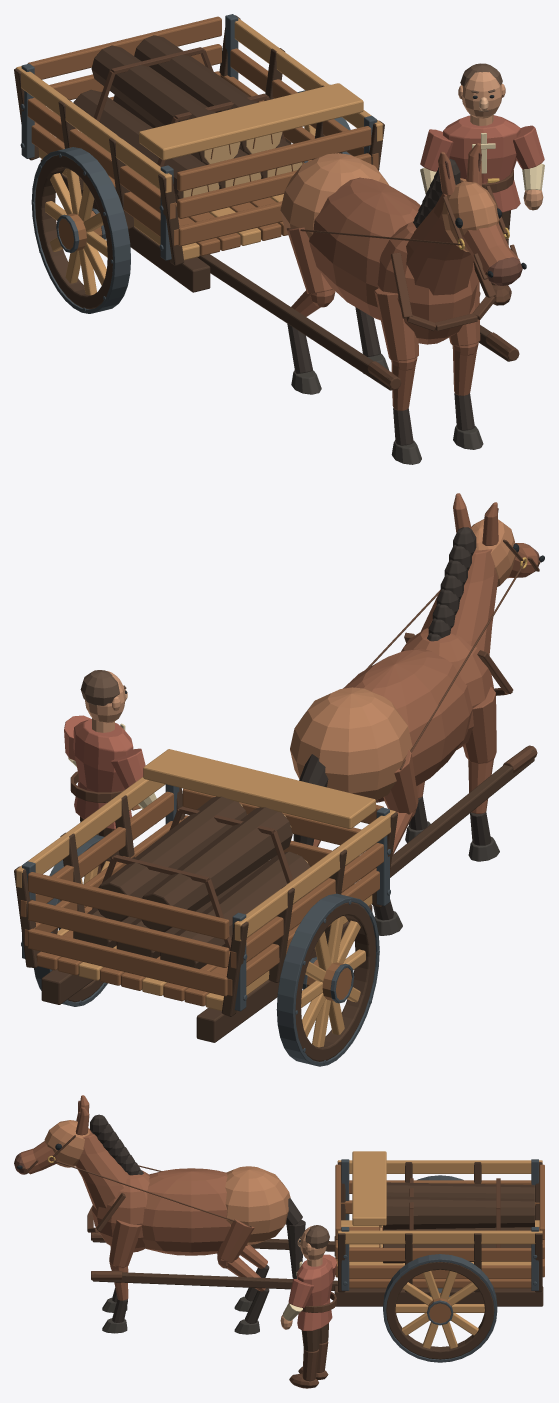
Rendered from loaded_horse_cart.glb.
3 views of the same model, one above another, from view 1: azimuth 30°, elevation 25°; view 2: azimuth 150°, elevation 25°; view 3: azimuth 270°, elevation 25° (orthographic). The views are drawn at different scales.
Visible parts, largest first — view 1: cart_body__structure.001, horse_bay__structure.001, cargo_logs__structure.001, cart_wheel__structure.001, carter_body__structure.001, cart_wheel__finish.001, horse_bay__finish.001, cargo_logs__attachments.001, cart_body__finish.001, horse_bay__attachments.001, carter_body__finish.001; view 2: cart_body__structure.001, horse_bay__structure.001, cargo_logs__structure.001, cart_wheel__structure.001, carter_body__structure.001, cart_wheel__finish.001, horse_bay__finish.001, cart_body__finish.001, cargo_logs__attachments.001, carter_body__finish.001, horse_bay__attachments.001, cart_wheel__finish.002 (+1 smaller); view 3: horse_bay__structure.001, cart_body__structure.001, cargo_logs__structure.001, cart_wheel__structure.002, carter_body__structure.001, horse_bay__finish.001, cart_wheel__finish.002, cart_body__finish.001, carter_body__finish.001, horse_bay__attachments.001, cargo_logs__attachments.001.
Part boxes in pixels (x1=…): cart_body__structure.001: x1=14, y1=15, x2=516, y2=390; horse_bay__structure.001: x1=280, y1=143, x2=519, y2=445; cargo_logs__structure.001: x1=73, y1=35, x2=303, y2=202; cart_wheel__structure.001: x1=35, y1=155, x2=112, y2=309; carter_body__structure.001: x1=420, y1=72, x2=544, y2=285; cart_wheel__finish.001: x1=31, y1=147, x2=130, y2=313; horse_bay__finish.001: x1=291, y1=152, x2=526, y2=464; cargo_logs__attachments.001: x1=93, y1=47, x2=302, y2=197; cart_body__finish.001: x1=21, y1=14, x2=519, y2=389; horse_bay__attachments.001: x1=287, y1=185, x2=517, y2=331; carter_body__finish.001: x1=460, y1=63, x2=543, y2=305; cart_body__structure.001: x1=14, y1=747, x2=534, y2=1042; horse_bay__structure.001: x1=290, y1=493, x2=537, y2=920; cargo_logs__structure.001: x1=73, y1=796, x2=310, y2=969; cart_wheel__structure.001: x1=295, y1=902, x2=375, y2=1061; carter_body__structure.001: x1=64, y1=671, x2=156, y2=876; cart_wheel__finish.001: x1=276, y1=893, x2=379, y2=1066; horse_bay__finish.001: x1=293, y1=508, x2=544, y2=935; cart_body__finish.001: x1=22, y1=745, x2=537, y2=1011; cargo_logs__attachments.001: x1=92, y1=804, x2=307, y2=950; carter_body__finish.001: x1=70, y1=670, x2=156, y2=823; horse_bay__attachments.001: x1=365, y1=539, x2=540, y2=769; cart_wheel__finish.002: x1=34, y1=835, x2=107, y2=1006; horse_bay__structure.001: x1=20, y1=1095, x2=290, y2=1323; cart_body__structure.001: x1=92, y1=1151, x2=544, y2=1306; cargo_logs__structure.001: x1=383, y1=1182, x2=534, y2=1263; cart_wheel__structure.002: x1=386, y1=1262, x2=494, y2=1359; carter_body__structure.001: x1=283, y1=1226, x2=336, y2=1381; horse_bay__finish.001: x1=14, y1=1100, x2=305, y2=1334; cart_wheel__finish.002: x1=383, y1=1254, x2=497, y2=1362; cart_body__finish.001: x1=91, y1=1159, x2=538, y2=1290; carter_body__finish.001: x1=280, y1=1225, x2=336, y2=1388; horse_bay__attachments.001: x1=22, y1=1120, x2=251, y2=1232; cargo_logs__attachments.001: x1=379, y1=1178, x2=500, y2=1247.
Size of the model in its own units: 3.28 by 2.7 by 5.93.
